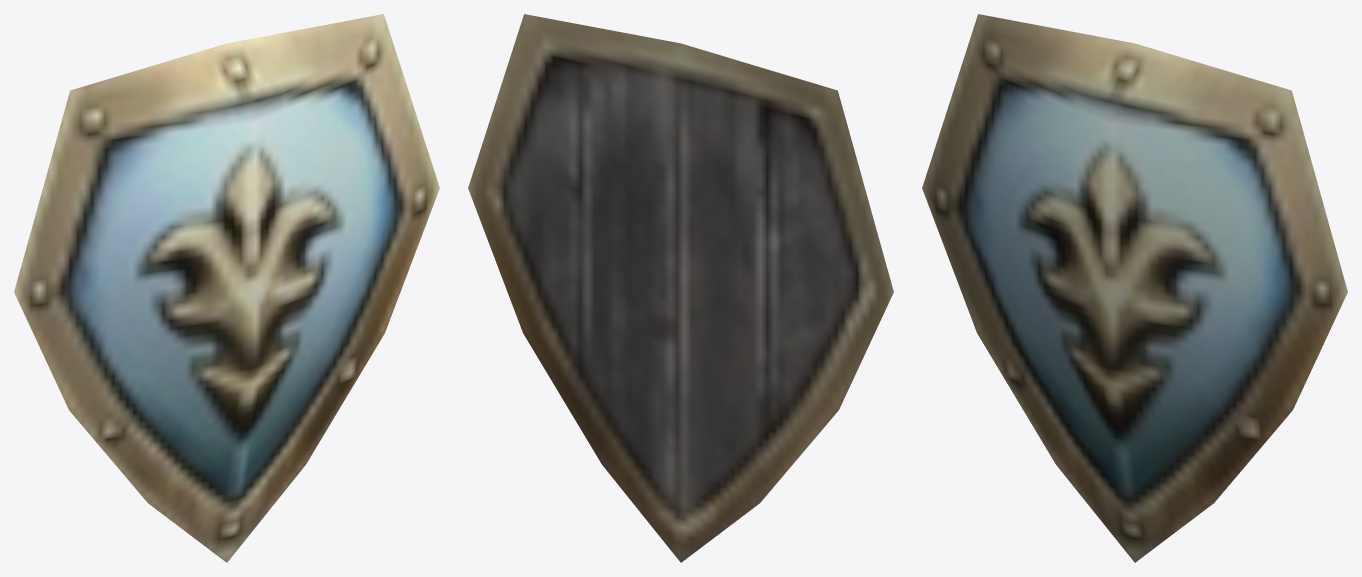
Rendered from shield.glb.
3 renders of one model, left to right at view 1: azimuth 30°, elevation 25°; view 2: azimuth 150°, elevation 25°; view 3: azimuth 330°, elevation 25°, orthographic.
Parts seen in each view (by area): view 1: shield; view 2: shield; view 3: shield.
Boxes of the visible parts, box(x1,y1,x2,y2) form: shield: box(14, 14, 439, 562); shield: box(468, 14, 893, 562); shield: box(922, 14, 1347, 562).
Size of the model in its own units: 3.69 by 4.31 by 0.3831.
Materials: 1 (1 with a texture image).
